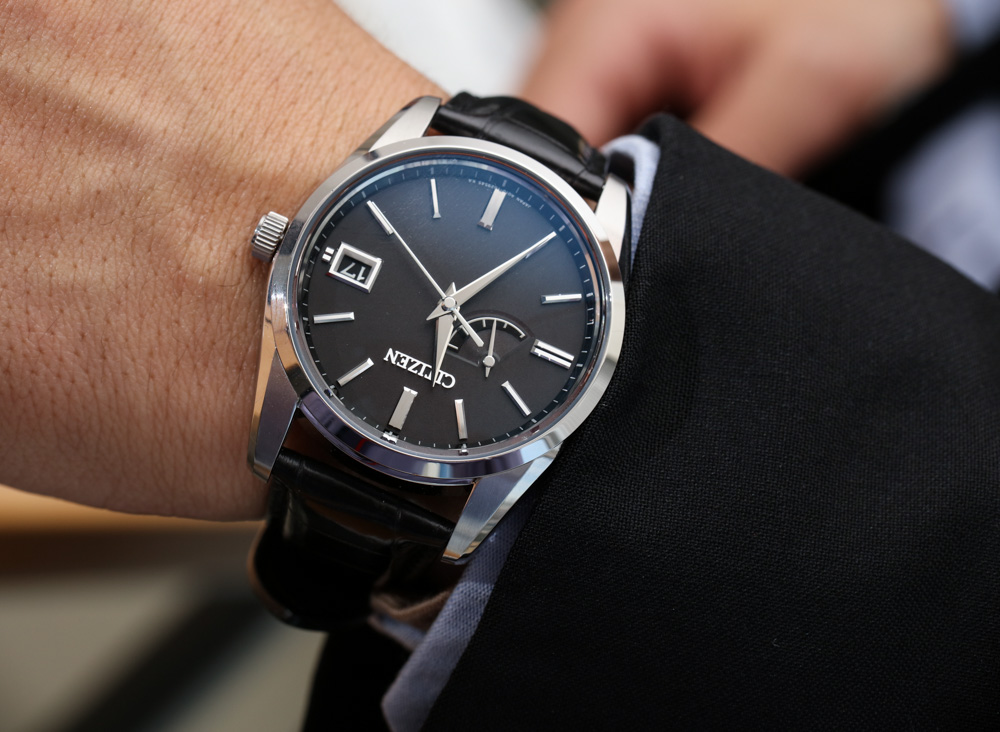clock: (300, 151, 594, 451)
